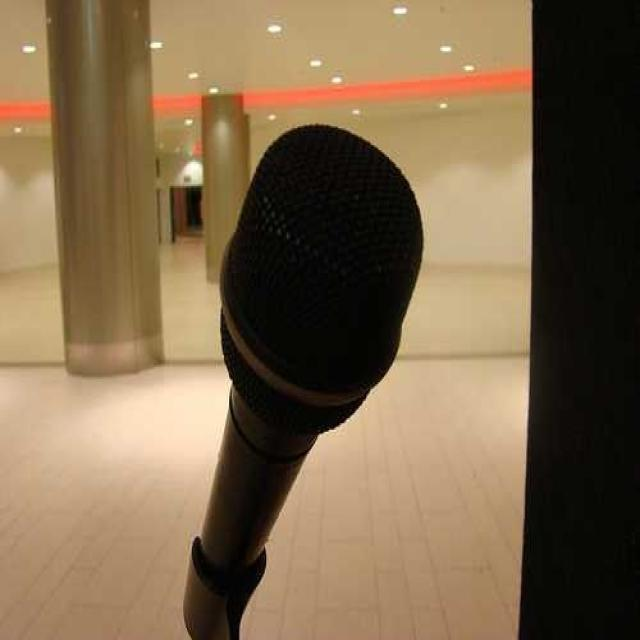microphone: (182, 122, 423, 638)
